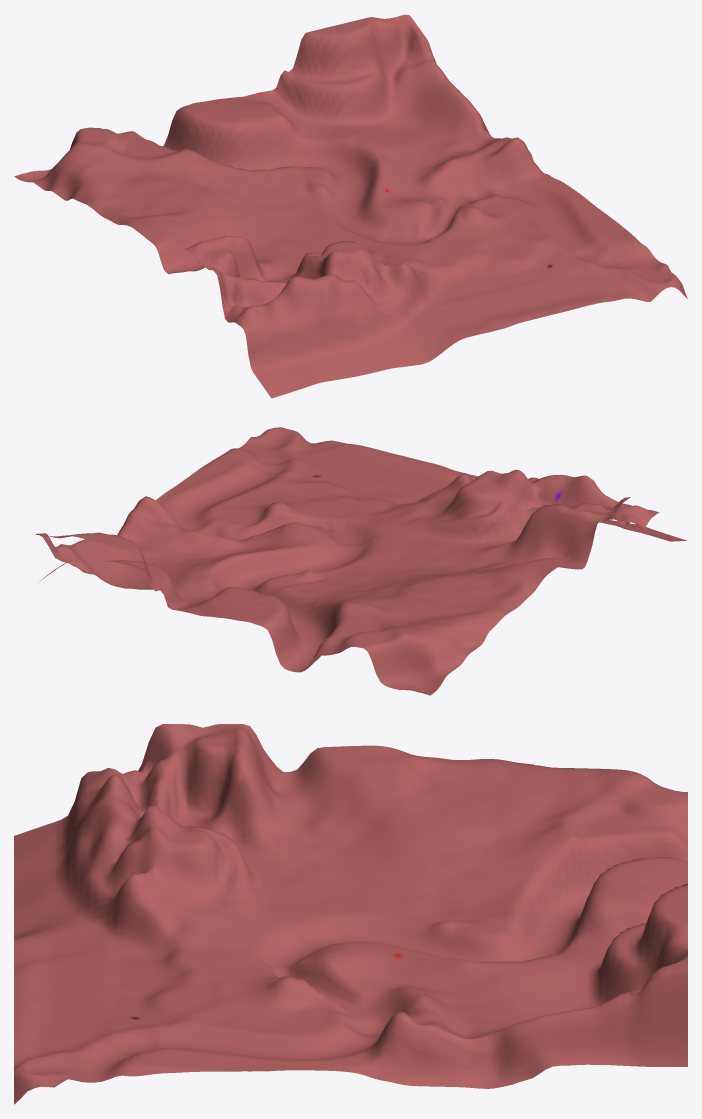
The model's file is terreno_ne.glb.
3 views of the same model, one above another, from view 1: azimuth 30°, elevation 25°; view 2: azimuth 150°, elevation 25°; view 3: azimuth 270°, elevation 25° (orthographic). The views are drawn at different scales.
Parts seen in each view (by area): view 1: terreno_ne; view 2: terreno_ne; view 3: terreno_ne.
Boxes of the visible parts, x1,y1,x2,y2 form: terreno_ne: (14, 14, 687, 398); terreno_ne: (35, 427, 686, 695); terreno_ne: (14, 724, 687, 1104).
Size of the model in its own units: 228 by 56.94 by 245.
